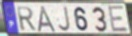3: (91, 6, 109, 33)
6: (73, 6, 89, 32)
A: (37, 5, 58, 33)
E: (106, 5, 129, 34)
J: (58, 6, 72, 33)
R: (15, 7, 37, 32)
